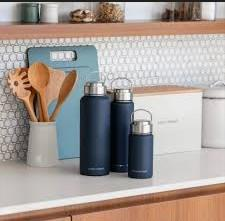bottle: (80, 75, 116, 180), (132, 122, 161, 180), (115, 85, 132, 169)
